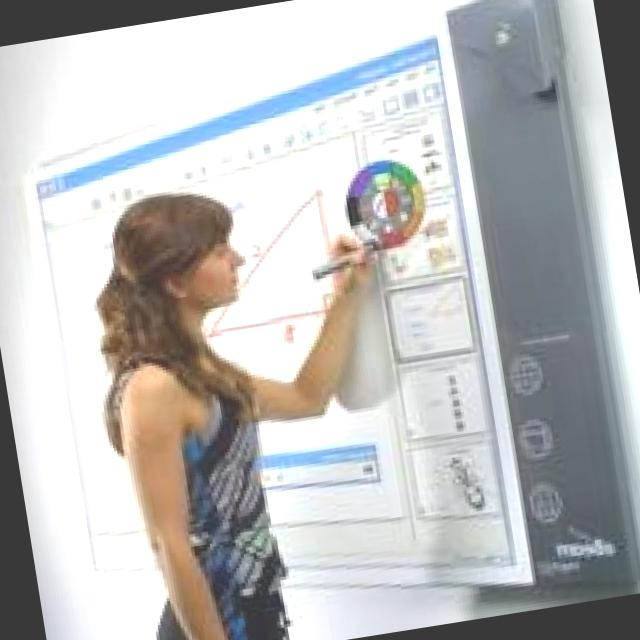no_vest: (99, 325, 306, 624)
